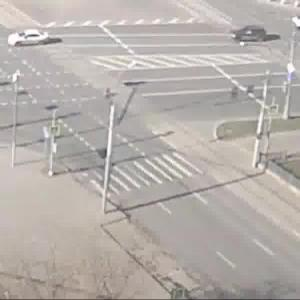car: (7, 29, 56, 47), (234, 25, 274, 43)
